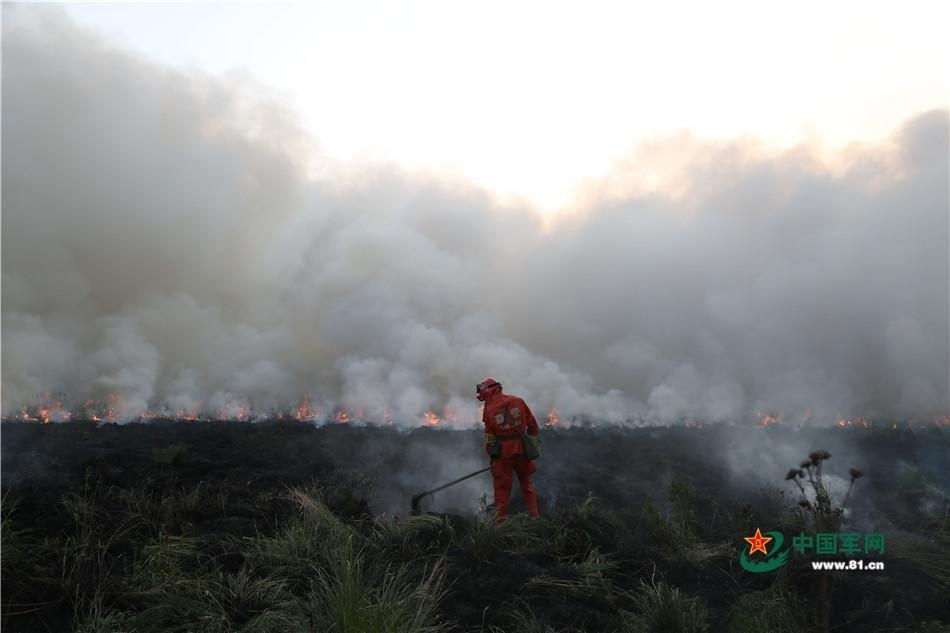fire: (742, 528, 773, 554)
